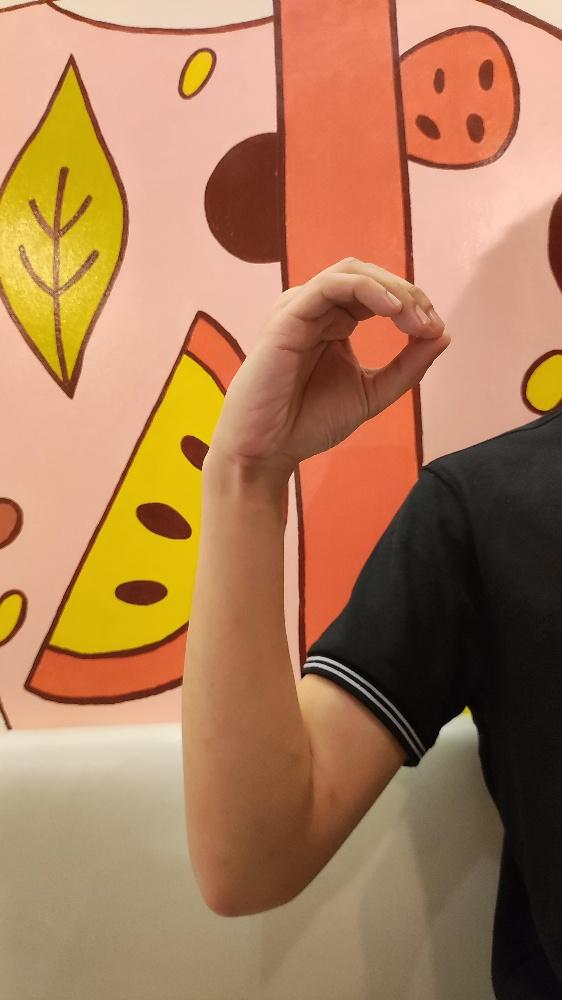o: (223, 255, 452, 468)
